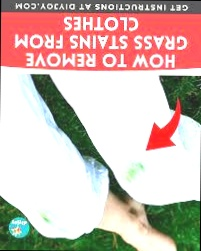earth: (122, 160, 144, 180), (35, 209, 59, 226)
